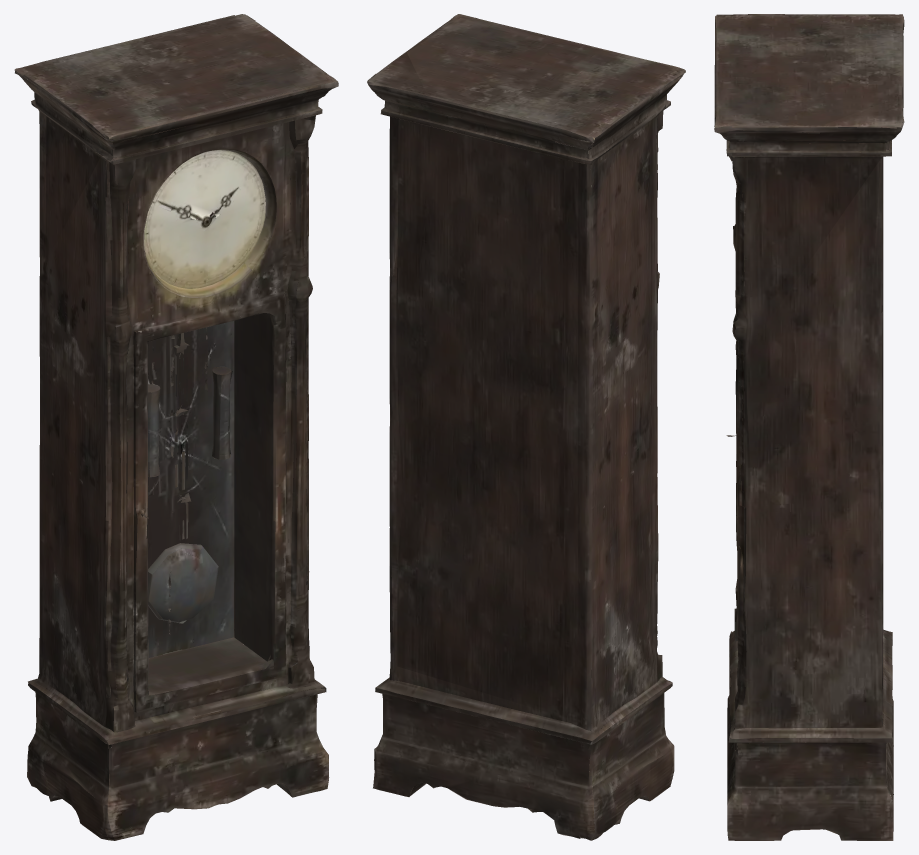
The model's file is clock.glb.
The picture shows the model from 3 angles, left to right: view 1: azimuth 30°, elevation 25°; view 2: azimuth 150°, elevation 25°; view 3: azimuth 270°, elevation 25°; orthographic projection.
Visible parts, largest first — view 1: Mesh_0; view 2: Mesh_0; view 3: Mesh_0.
Boxes of the visible parts, x1=… form: Mesh_0: x1=14, y1=14, x2=338, y2=840; Mesh_0: x1=367, y1=14, x2=685, y2=840; Mesh_0: x1=714, y1=14, x2=904, y2=840.
Size of the model in its own units: 0.6464 by 1.9 by 0.4578.
1 material, 1 textured.
